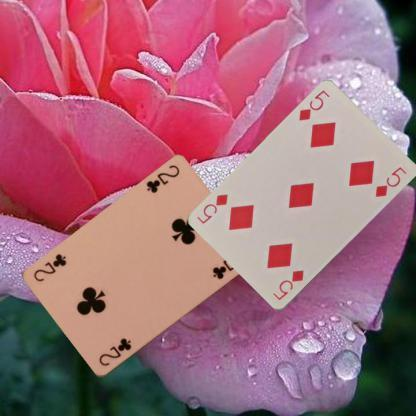2c: (143, 162, 182, 196), (96, 336, 133, 368)
5d: (296, 87, 331, 122), (270, 268, 305, 302)
